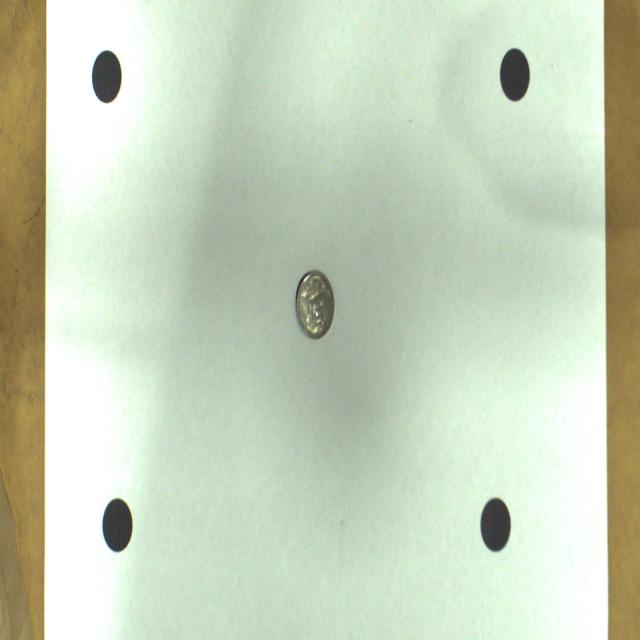head1bath: (296, 271, 335, 338)
space: (480, 498, 511, 551), (102, 498, 132, 552), (500, 49, 530, 102), (92, 51, 121, 104)
